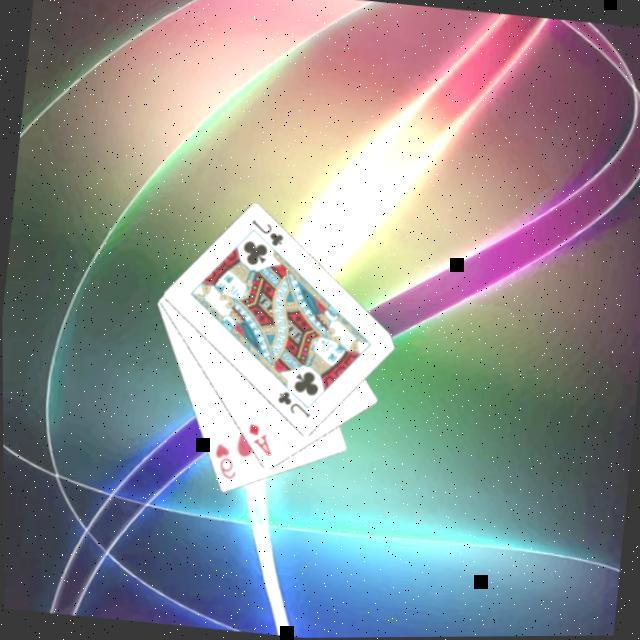6H: (208, 442, 241, 485)
AD: (241, 421, 277, 462)
JC: (272, 390, 315, 424), (245, 218, 288, 252)
